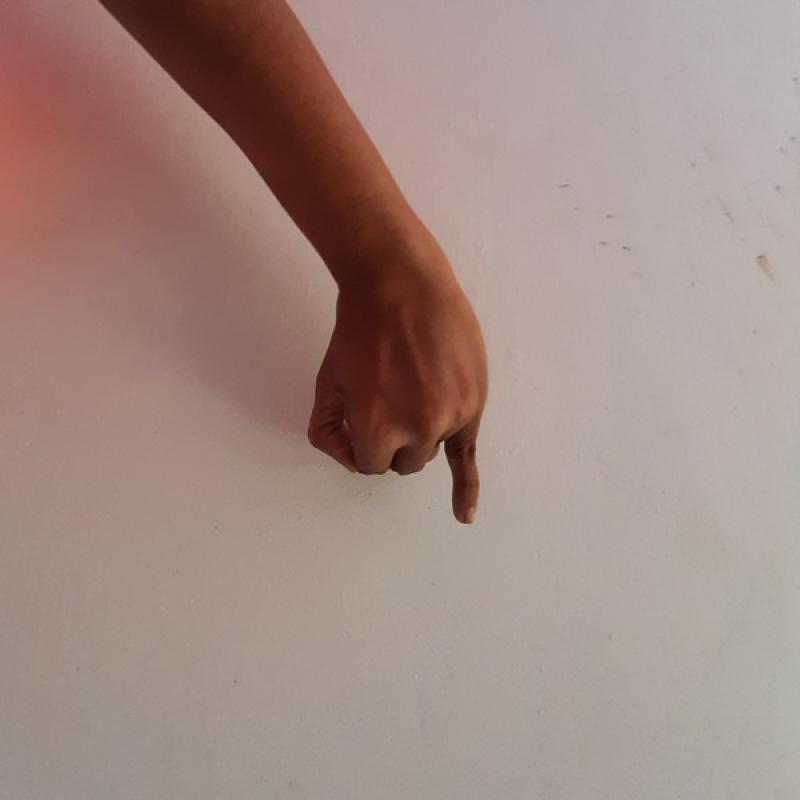Kartharee Mukham: (301, 273, 497, 535)
